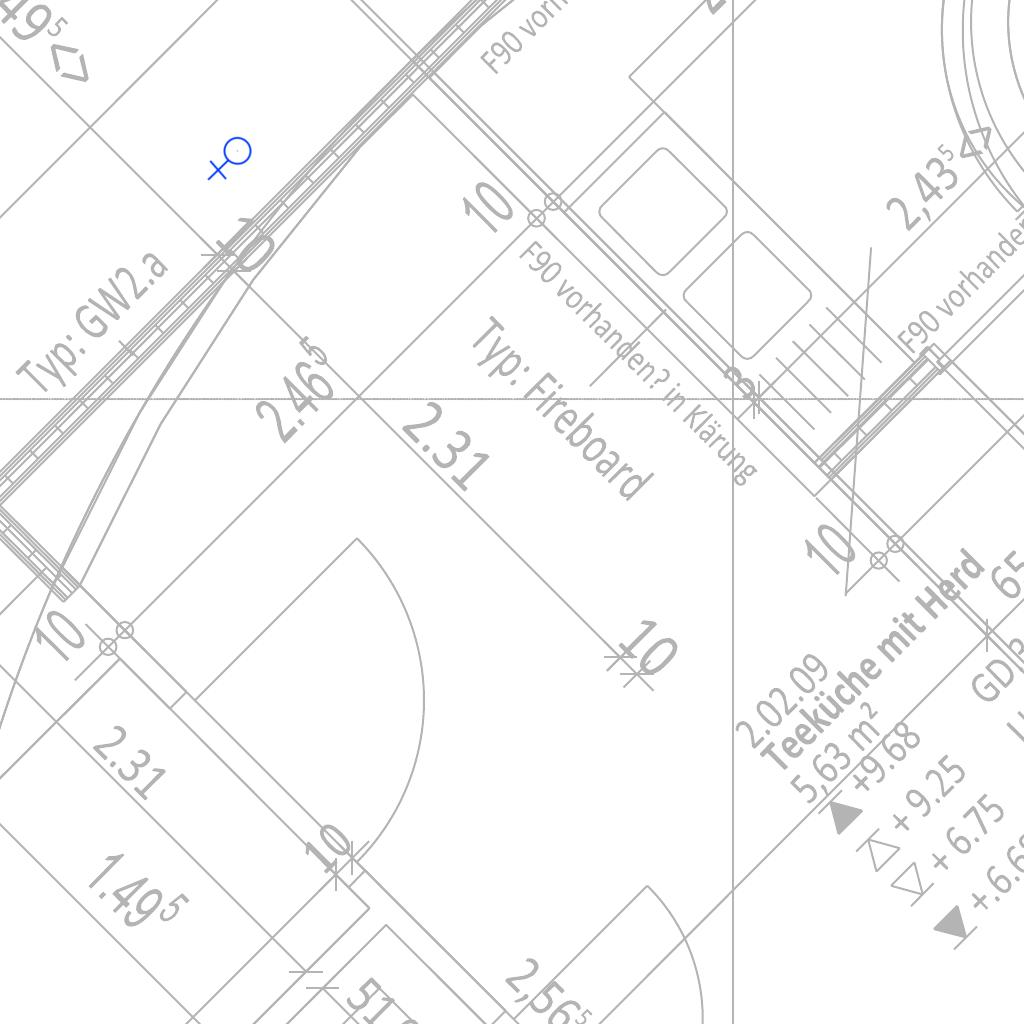Elektroanschluss_allgemein_230V_Geraeteanschlussdose_230V: (207, 136, 256, 183)
